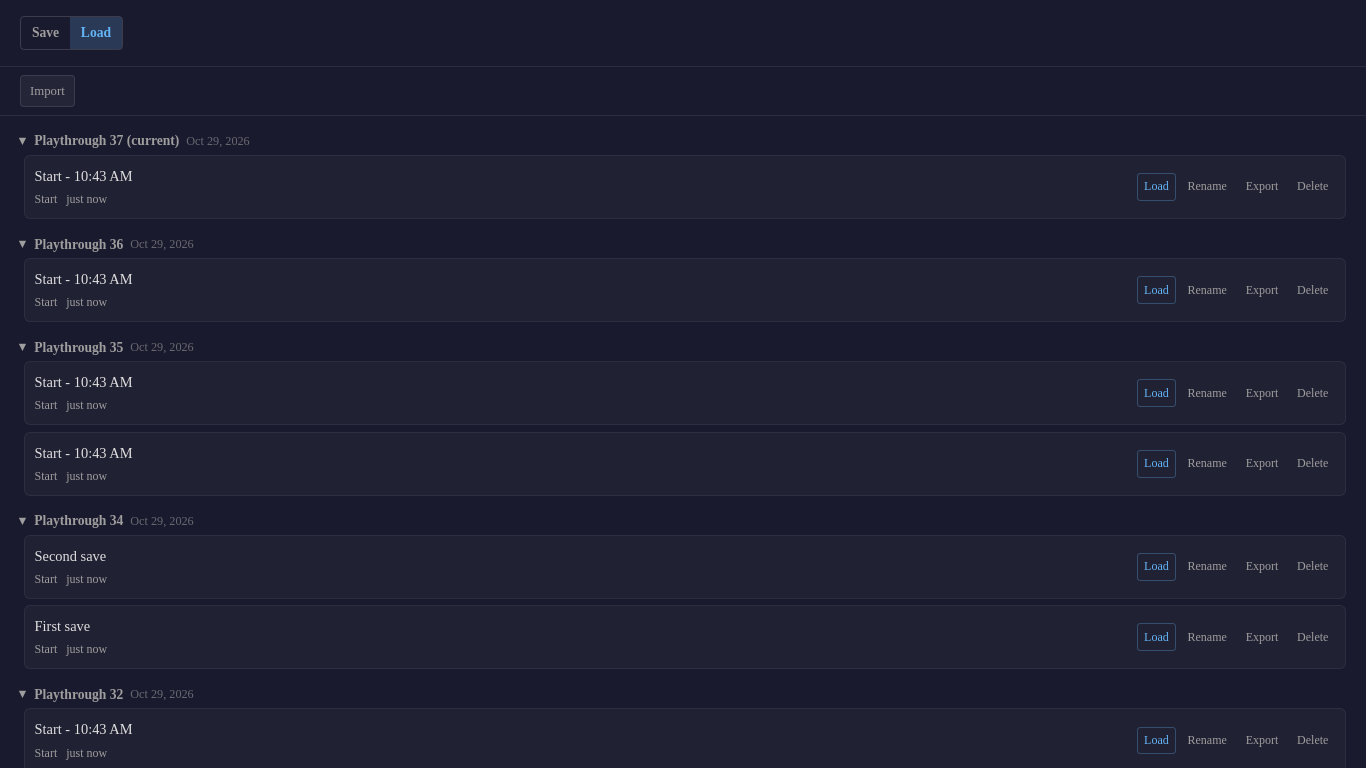
Test case: SaveManagerContent › overwrite (Save Here) › overwrites existing save with current state
Click the button "Save" at (45, 33), box [21,17,70,49]
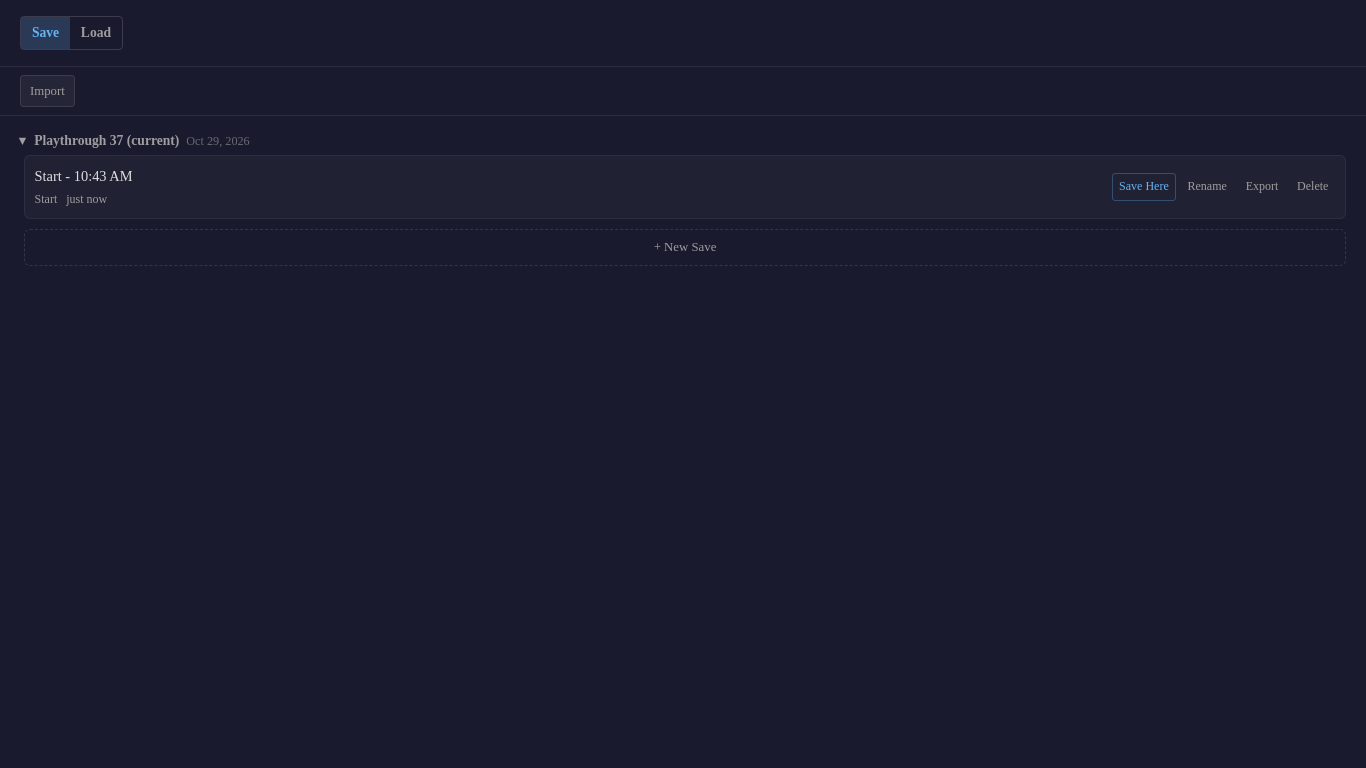
Click the button with class "save-slot-action" showing "Save Here" at (1144, 187), box [1112,173,1176,201]
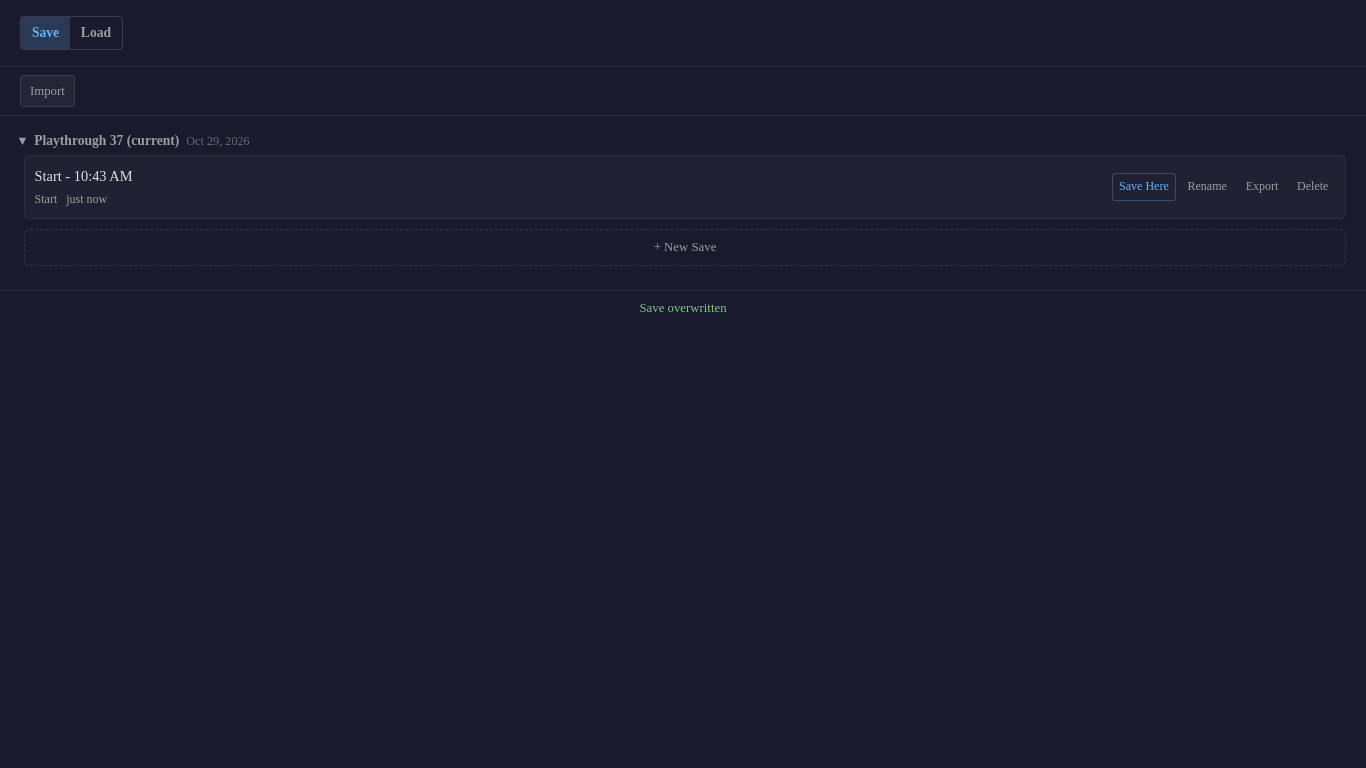
Check: the text "Save overwritten" is shown, box [0,290,1365,326]
Check: the text with class "saves-status" reads "Save overwritten", box [640,301,727,315]
